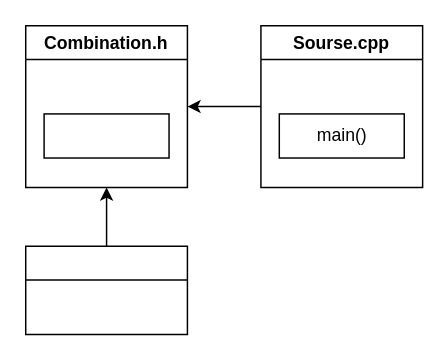
Some shapes in this 448 by 360 pixel diagram are drawn without their labels. Here are the shapes that lost their labels. From the top down, the centre of each, then its label:
the point at 106,135: class Combination
the point at 105,289: Combination.cpp
